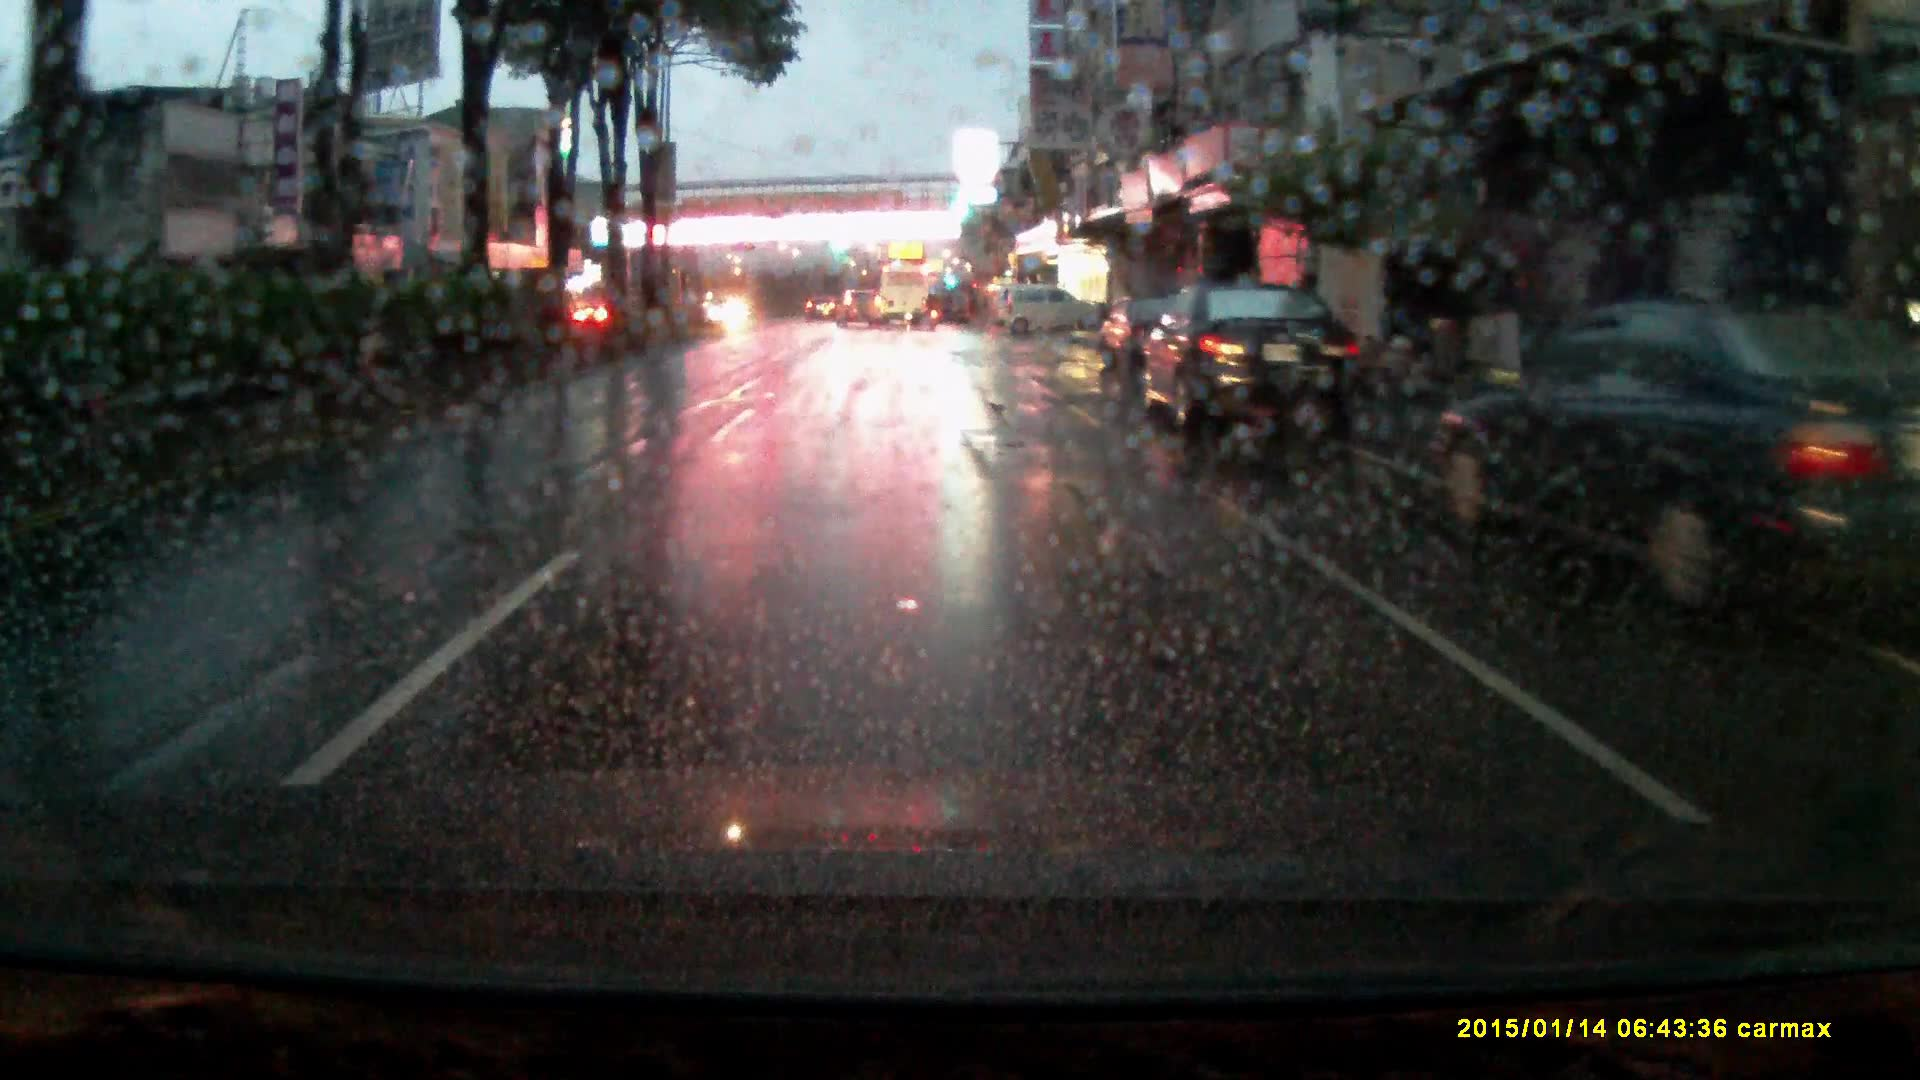vehicle: (1431, 305, 1894, 646), (1139, 284, 1357, 451), (1095, 297, 1185, 378), (1001, 287, 1097, 345), (864, 266, 930, 332), (835, 293, 884, 335), (804, 297, 837, 327)
